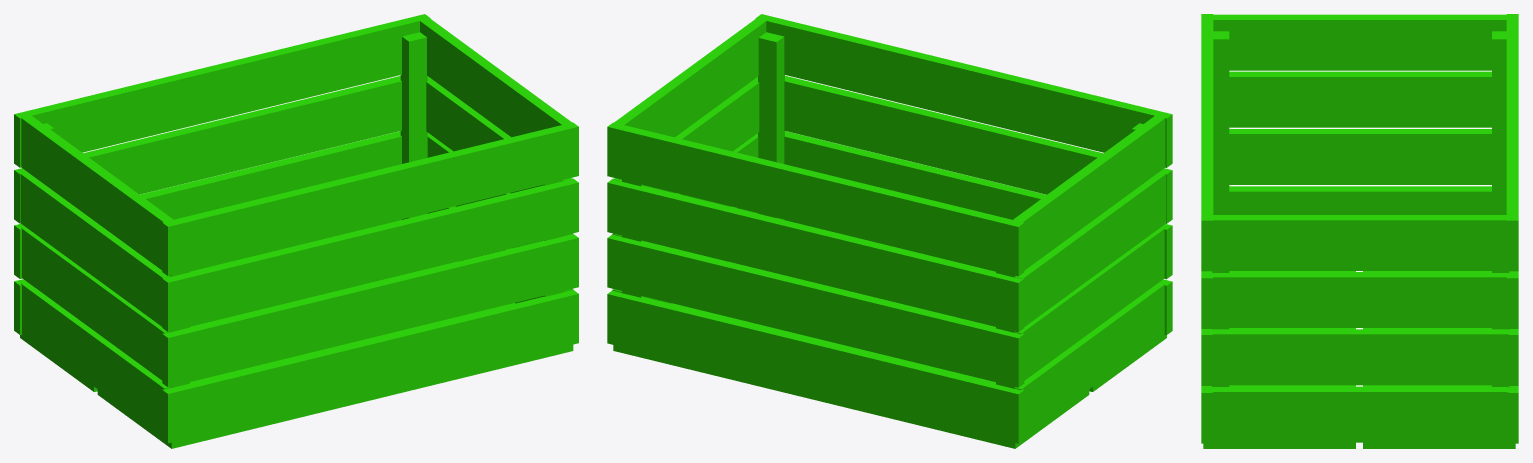
The model's file is Woodbox_02_Lod0.fbx.
The picture shows the model from 3 angles, left to right: view 1: azimuth 30°, elevation 25°; view 2: azimuth 150°, elevation 25°; view 3: azimuth 270°, elevation 25°; orthographic projection. The views are drawn at different scales.
Parts seen in each view (by area): view 1: Woodbox_02_Lod0; view 2: Woodbox_02_Lod0; view 3: Woodbox_02_Lod0.
Boxes of the visible parts, x1=… form: Woodbox_02_Lod0: x1=14, y1=14, x2=578, y2=448; Woodbox_02_Lod0: x1=607, y1=14, x2=1172, y2=448; Woodbox_02_Lod0: x1=1201, y1=14, x2=1518, y2=448.
Size of the model in its own units: 53.98 by 28.11 by 35.04.
